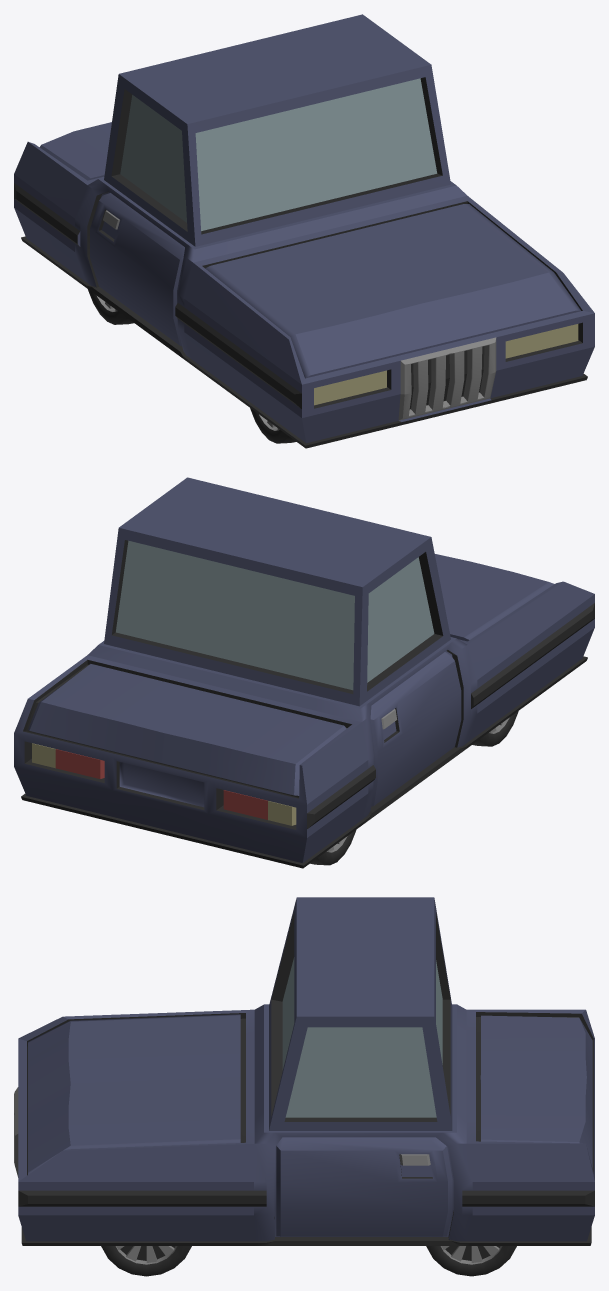
Rendered from Car.fbx.
3 views of the same model, one above another, from view 1: azimuth 30°, elevation 25°; view 2: azimuth 150°, elevation 25°; view 3: azimuth 270°, elevation 25° (orthographic).
Visible parts, largest first — view 1: car_body2; view 2: car_body2; view 3: car_body2.
Part boxes in pixels (x1,y1,x2,y2): car_body2: [14, 14, 594, 448]; car_body2: [14, 477, 594, 868]; car_body2: [14, 897, 594, 1276].
Size of the model in its own units: 2.95 by 2.51 by 4.97.
